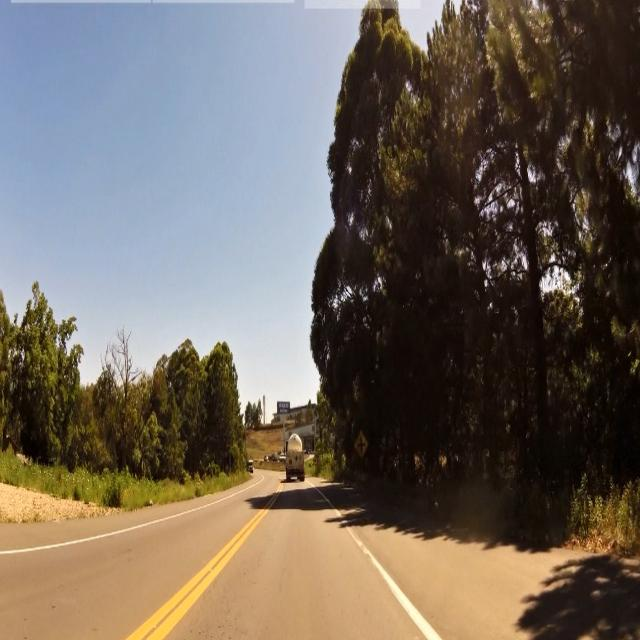A-6: (355, 430, 367, 456)
